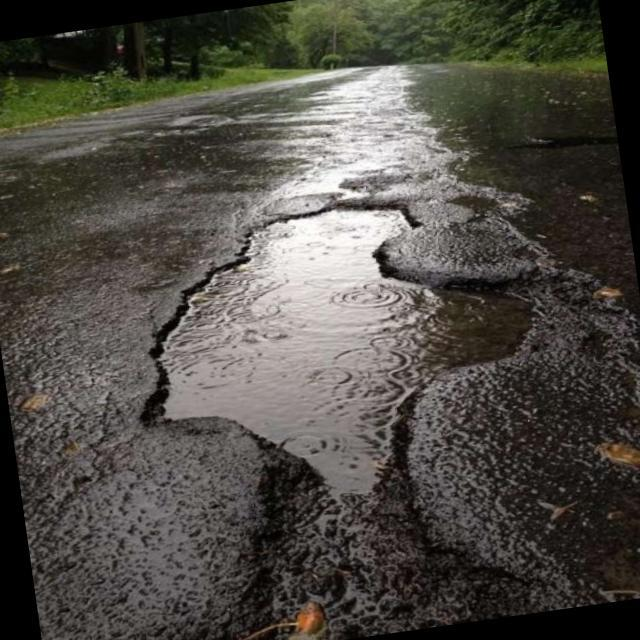Pothole: (128, 168, 558, 550)
